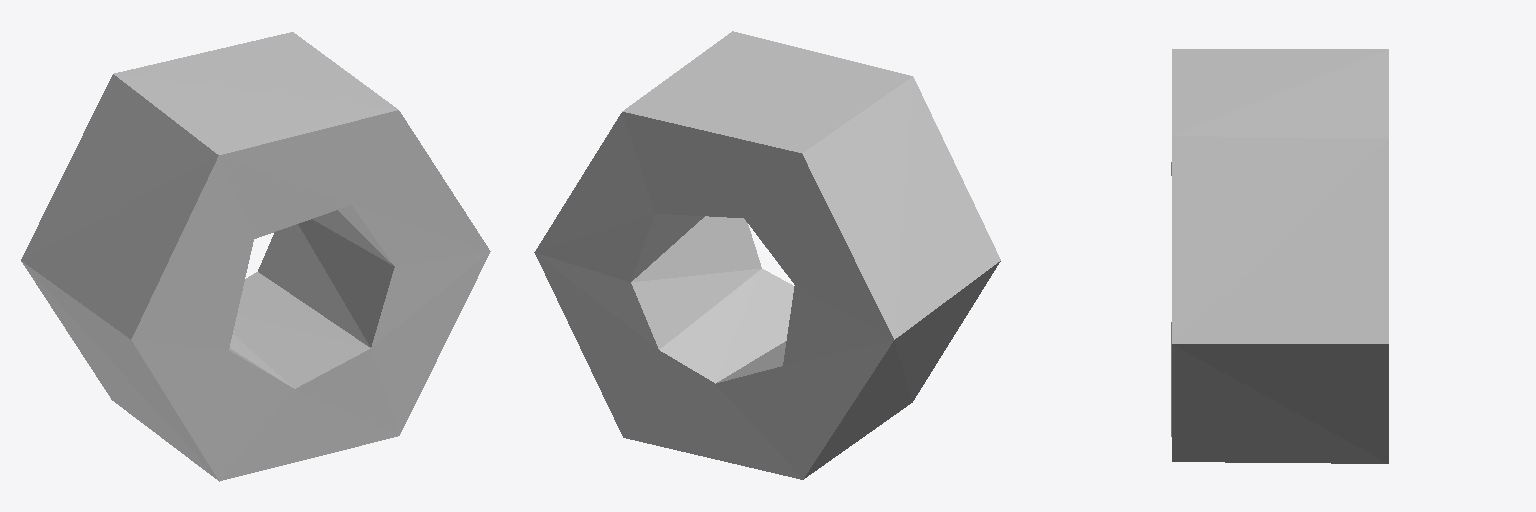
Rendered from Nut_decimated_convex.obj.
3 views of the same model, side by side, from view 1: azimuth 30°, elevation 25°; view 2: azimuth 150°, elevation 25°; view 3: azimuth 270°, elevation 25° (orthographic).
Parts seen in each view (by area): view 1: my_mesh_Nut; view 2: my_mesh_Nut; view 3: my_mesh_Nut.
Boxes of the visible parts, box(x1,y1,x2,y2) form: my_mesh_Nut: box(21, 32, 490, 481); my_mesh_Nut: box(534, 31, 1000, 479); my_mesh_Nut: box(1171, 49, 1388, 463).
Size of the model in its own units: 35.89 by 31.1 by 18.76.